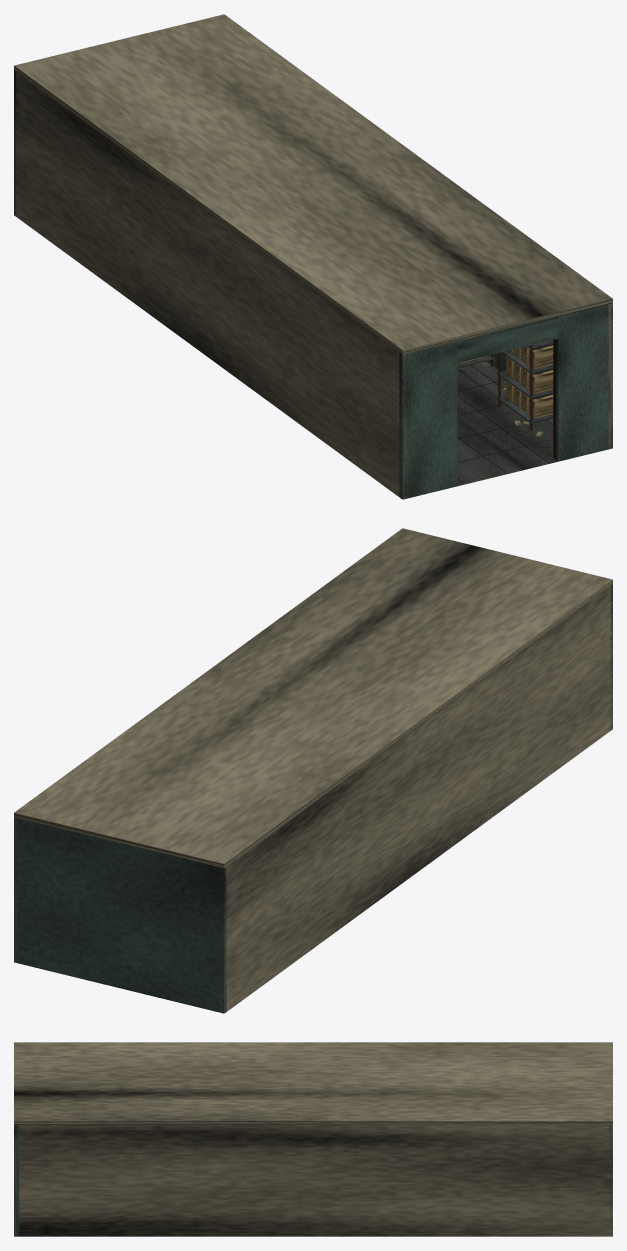
Rendered from archive.glb.
3 renders of one model, top to bottom at view 1: azimuth 30°, elevation 25°; view 2: azimuth 150°, elevation 25°; view 3: azimuth 270°, elevation 25°, orthographic. The views are drawn at different scales.
Visible parts, largest first — view 1: static-plaster, static-paint, static-stone, static-paper, static-metal, static-rust; view 2: static-plaster, static-paint; view 3: static-plaster, static-paint.
Part boxes in pixels (x1,y1,x2,y2): static-plaster: [14, 14, 612, 499]; static-paint: [14, 70, 612, 499]; static-stone: [457, 361, 557, 486]; static-paper: [457, 340, 553, 437]; static-metal: [457, 340, 553, 423]; static-rust: [407, 339, 607, 459]; static-plaster: [14, 528, 612, 1013]; static-paint: [14, 584, 612, 1013]; static-plaster: [14, 1042, 612, 1236]; static-paint: [14, 1124, 612, 1236].
Size of the model in its own units: 5 by 3.4 by 16.
13 materials, 9 textured.
